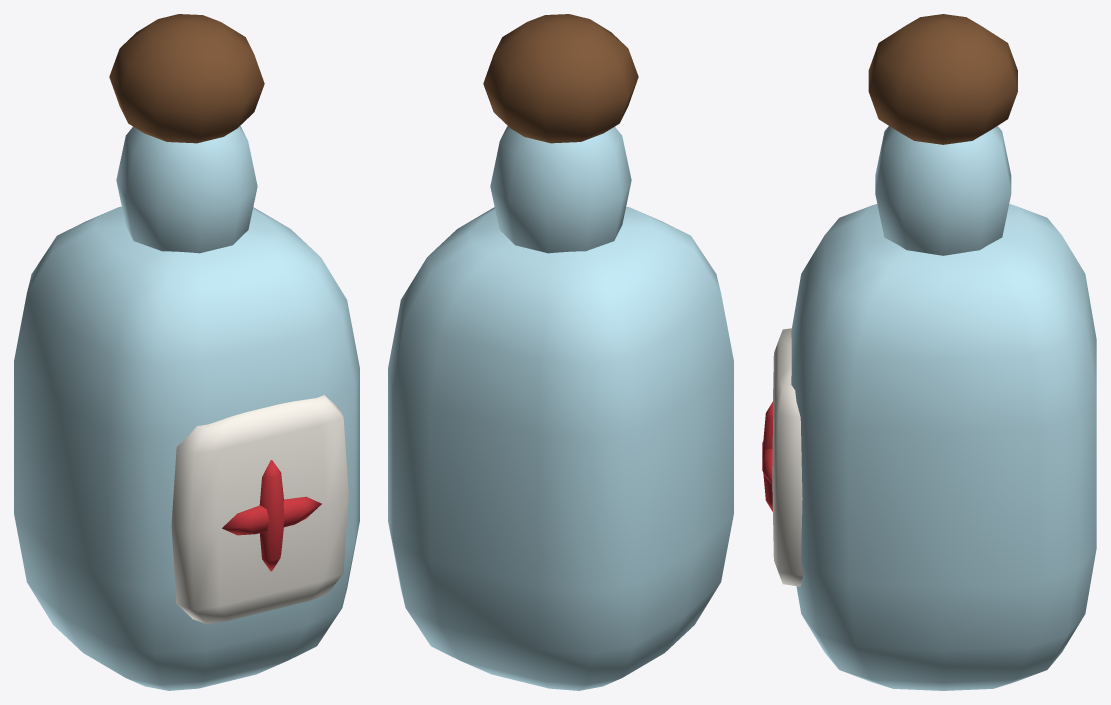
File: medicine.glb
The picture shows the model from 3 angles, left to right: view 1: azimuth 30°, elevation 25°; view 2: azimuth 150°, elevation 25°; view 3: azimuth 270°, elevation 25°; orthographic projection.
Visible parts, largest first — view 1: item; view 2: item; view 3: item.
Boxes of the visible parts, x1,y1,x2,y2 form: item: (14,14,359,690); item: (388,14,733,690); item: (762,14,1096,690).
Size of the model in its own units: 0.218 by 0.495 by 0.234.
1 material, 1 textured.
